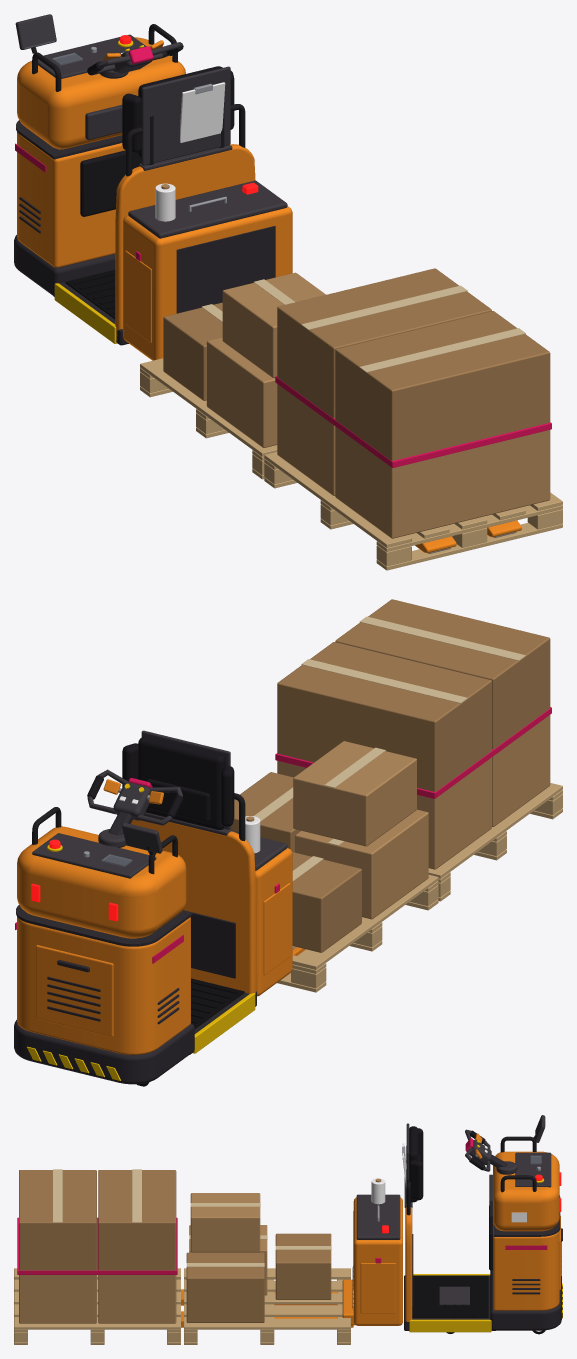
File: picker_low.glb
The picture shows the model from 3 angles, top to bottom: view 1: azimuth 30°, elevation 25°; view 2: azimuth 150°, elevation 25°; view 3: azimuth 270°, elevation 25°; orthographic projection. The views are drawn at different scales.
Parts seen in each view (by area): view 1: pal_front_top, bumper, batt_box, carton, pal_rear_top, head_body; view 2: bumper, pal_front_top, carton, batt_box, pal_rear_top, head_body; view 3: pal_front_top, bumper, carton, batt_box, pal_rear_top, head_body.
Part boxes in pixels (box(x1,y1,x2,y2)): pal_front_top: box(264, 268, 562, 570); bumper: box(14, 14, 255, 345); batt_box: box(123, 180, 521, 553); carton: box(163, 272, 325, 447); pal_rear_top: box(140, 358, 277, 479); head_body: box(87, 40, 183, 75); bumper: box(14, 730, 256, 1084); pal_front_top: box(275, 599, 562, 901); carton: box(230, 741, 428, 952); batt_box: box(232, 816, 305, 996); pal_rear_top: box(277, 874, 438, 992); head_body: box(87, 769, 183, 825); pal_front_top: box(14, 1169, 180, 1344); bumper: box(402, 1115, 562, 1332); carton: box(186, 1193, 331, 1322); batt_box: box(181, 1178, 402, 1327); pal_rear_top: box(184, 1268, 350, 1344); head_body: box(465, 1129, 491, 1171).
Size of the model in its own units: 1 by 1.41 by 3.94.
